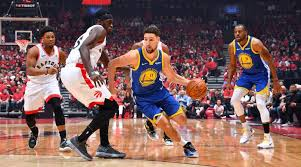ball: (186, 77, 208, 101)
hoop: (15, 38, 29, 54)
